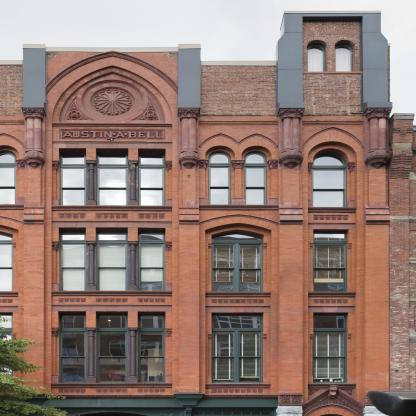Building Outline: (0, 11, 393, 416)
Cornice: (45, 50, 179, 127), (302, 385, 364, 416)
Deco: (59, 72, 166, 123), (59, 129, 166, 139), (211, 299, 264, 303), (212, 389, 263, 393), (96, 213, 128, 219), (313, 299, 349, 304), (314, 215, 349, 220), (58, 213, 86, 219), (138, 214, 166, 220), (96, 389, 128, 393), (96, 299, 128, 303), (58, 389, 86, 393), (59, 299, 87, 303), (138, 299, 166, 303), (138, 389, 166, 392)
Facade: (0, 116, 389, 416)
Floor: (0, 82, 390, 218), (0, 303, 390, 403), (0, 218, 390, 303)
Floor Slab: (0, 299, 389, 303), (0, 214, 389, 218), (0, 399, 389, 403), (278, 78, 389, 82)
Ground Floor: (0, 403, 390, 416)
Molding: (50, 394, 177, 399), (201, 394, 278, 399)
Pillar: (17, 108, 50, 406), (173, 108, 205, 406), (363, 108, 391, 406), (277, 108, 305, 406)
Sill: (51, 383, 172, 388), (51, 205, 172, 210), (51, 291, 172, 296), (199, 204, 279, 210), (205, 291, 271, 297), (205, 383, 271, 388), (308, 383, 356, 388), (308, 207, 356, 212), (308, 291, 356, 296)
Top Floor: (284, 11, 381, 81)
Window: (212, 329, 263, 383), (212, 242, 263, 292), (313, 313, 348, 384), (96, 311, 128, 383), (313, 229, 347, 292), (96, 227, 128, 291), (58, 311, 86, 383), (138, 311, 165, 383), (96, 148, 128, 205), (138, 228, 165, 291), (59, 228, 86, 291), (59, 148, 86, 205), (139, 149, 166, 206), (312, 166, 346, 207), (208, 165, 231, 205), (244, 164, 267, 204), (212, 313, 263, 329), (211, 229, 264, 241), (335, 45, 353, 72), (307, 45, 325, 72), (244, 150, 267, 164), (208, 150, 231, 164)
dont: (0, 332, 69, 416), (367, 390, 416, 416)
